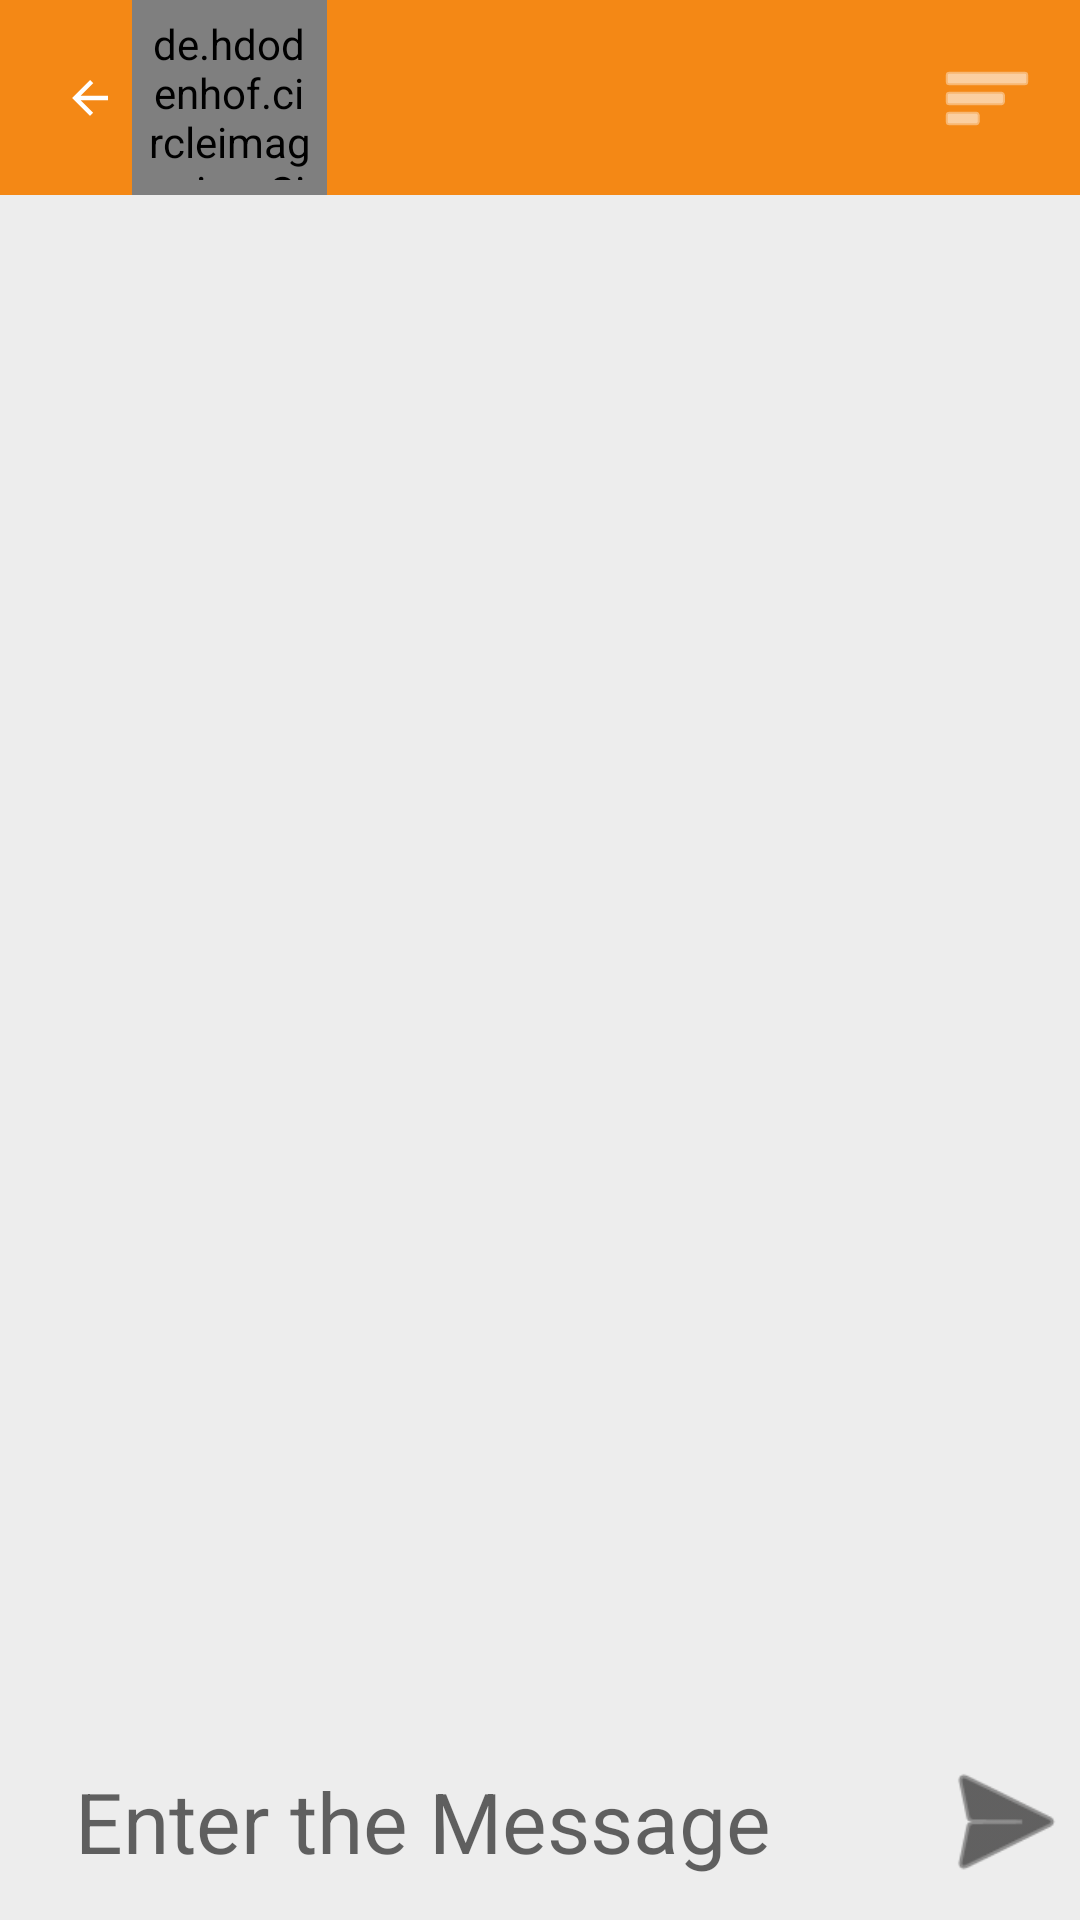

Where icons sit on this 1080w x 1920h app screen, as region(x1, y1, x2, y2):
send: region(958, 1774, 1054, 1869)
sort by size: region(946, 72, 1028, 125)
